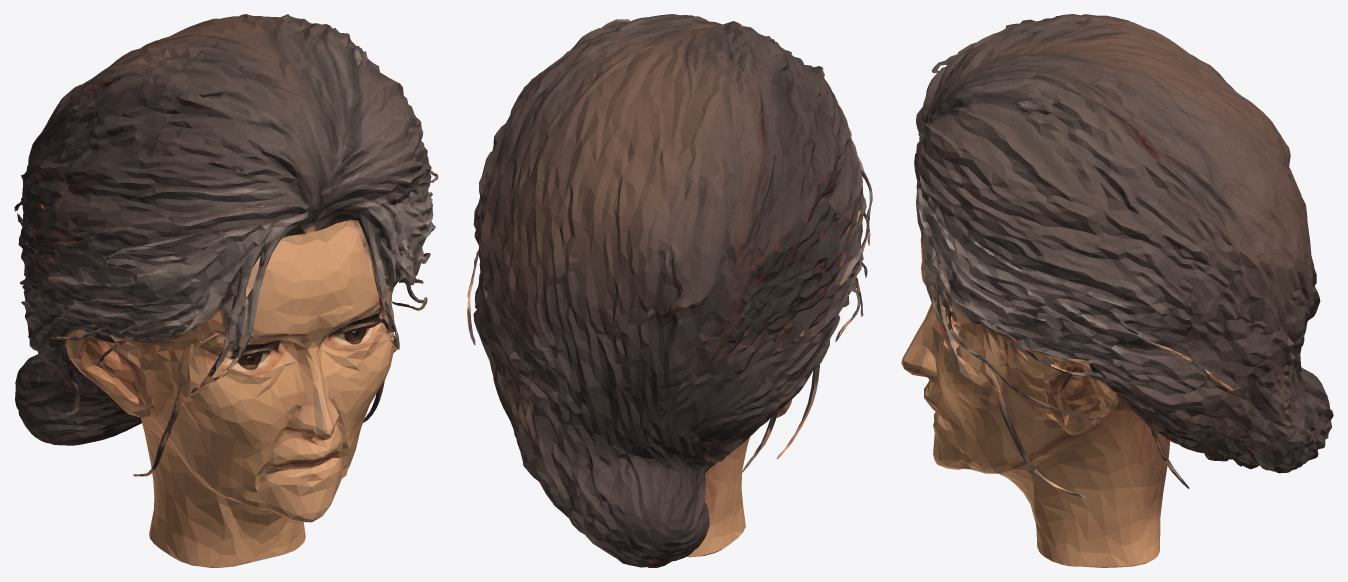
The model's file is side_widow_repaired_atlas.glb.
3 views of the same model, side by side, from view 1: azimuth 30°, elevation 25°; view 2: azimuth 150°, elevation 25°; view 3: azimuth 270°, elevation 25° (orthographic). The views are drawn at different scales.
Parts seen in each view (by area): view 1: temp_mesh.ply; view 2: temp_mesh.ply; view 3: temp_mesh.ply.
Part boxes in pixels (bbox=[...]): temp_mesh.ply: bbox=[14, 14, 438, 567]; temp_mesh.ply: bbox=[467, 14, 872, 567]; temp_mesh.ply: bbox=[901, 14, 1333, 567].
Size of the model in its own units: 1.47 by 1.97 by 1.55.
1 material, 1 textured.
